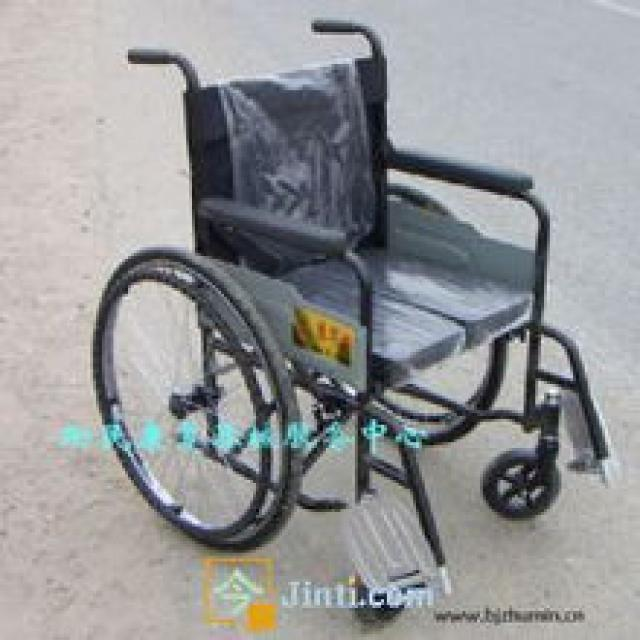wheelchair: (98, 14, 622, 596)
